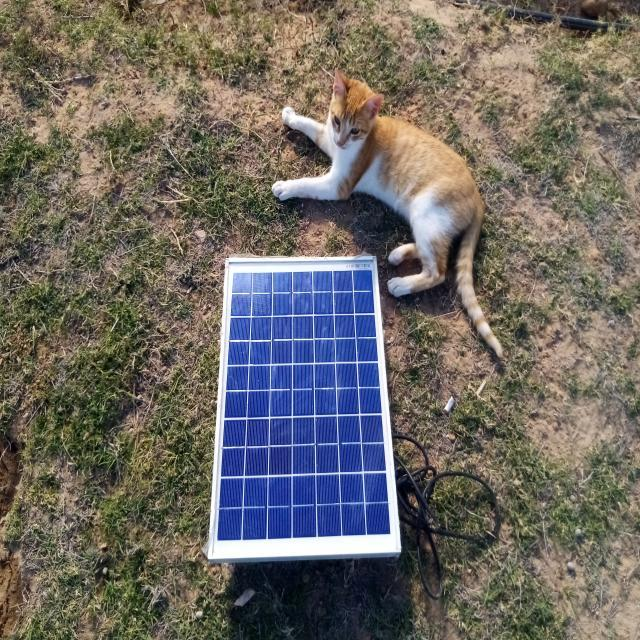no faulty: (208, 256, 401, 557)
